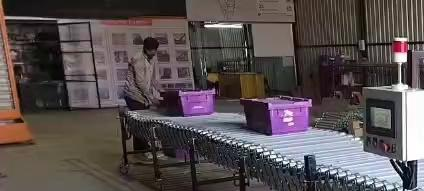box: (159, 89, 216, 115)
